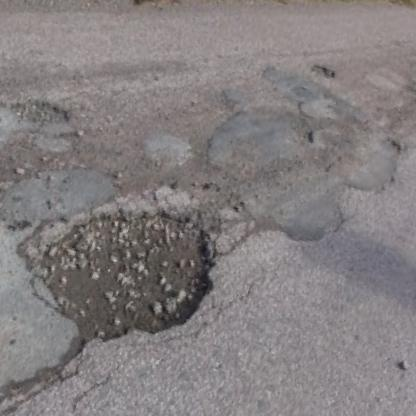pothole: (21, 175, 230, 358), (6, 90, 75, 138), (311, 60, 338, 80)
